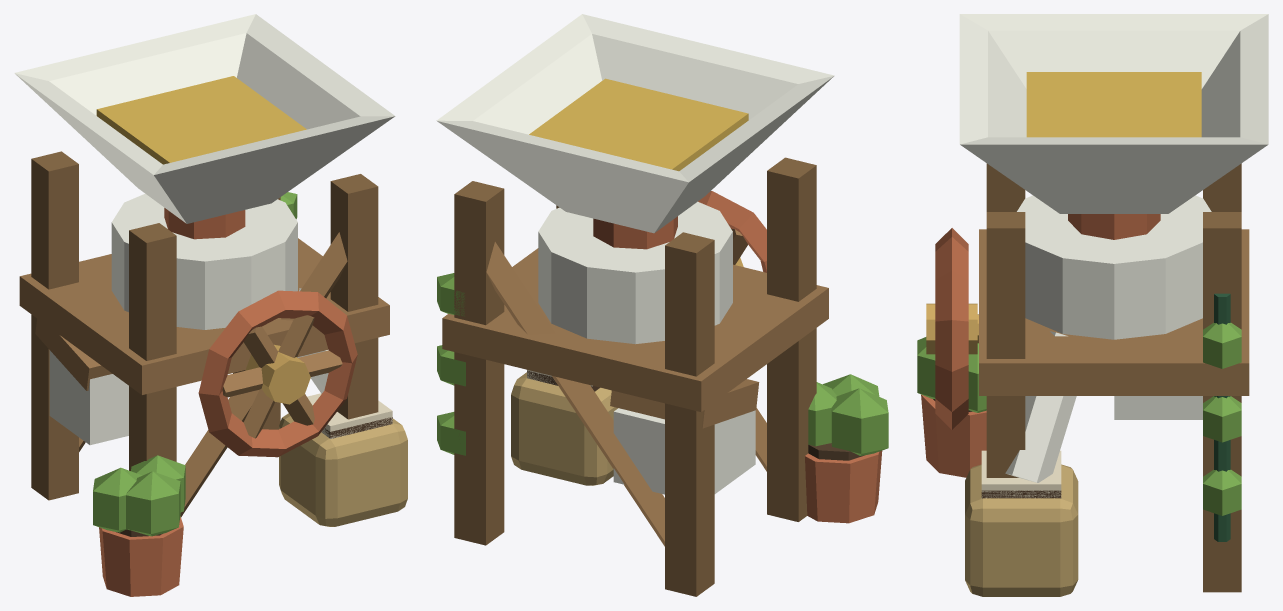
Rendered from mill_electric.glb.
The picture shows the model from 3 angles, left to right: view 1: azimuth 30°, elevation 25°; view 2: azimuth 150°, elevation 25°; view 3: azimuth 270°, elevation 25°; orthographic projection. The views are drawn at different scales.
Visible parts, largest first — view 1: Mill_open_hopper, move_spin_drive, Mill_machine_shelf, Mill_ceramic_grinder, Mill_timber_upright.001, Mill_flour_bin, Mill_visible_grain, Mill_timber_upright, Mill_timber_upright.002, Mill_motor, decor_Terracotta_planter, Mill_tower_brace (+7 smaller); view 2: Mill_open_hopper, Mill_machine_shelf, Mill_ceramic_grinder, Mill_timber_upright.001, Mill_timber_upright.003, Mill_timber_upright, Mill_visible_grain, Mill_flour_bin, Mill_tower_brace.001, Mill_motor, decor_Terracotta_planter, decor_Living_leaves (+10 smaller); view 3: Mill_open_hopper, Mill_ceramic_grinder, Mill_machine_shelf, Mill_flour_bin, Mill_visible_grain, Mill_timber_upright.002, Mill_timber_upright.003, move_spin_drive, Mill_flour_chute, decor_Terracotta_planter, Mill_motor, Mill_copper_neck (+10 smaller).
Boxes of the visible parts, x1,y1,x2,y2 form: Mill_open_hopper: [14, 14, 395, 223]; move_spin_drive: [198, 290, 357, 457]; Mill_machine_shelf: [19, 238, 389, 394]; Mill_ceramic_grinder: [111, 193, 297, 329]; Mill_timber_upright.001: [31, 151, 78, 500]; Mill_flour_bin: [279, 413, 407, 526]; Mill_visible_grain: [96, 76, 306, 164]; Mill_timber_upright: [129, 223, 176, 470]; Mill_timber_upright.002: [330, 174, 378, 419]; Mill_motor: [49, 350, 128, 445]; decor_Terracotta_planter: [99, 516, 183, 596]; Mill_tower_brace: [180, 232, 347, 517]; Mill_open_hopper: [436, 14, 834, 233]; Mill_machine_shelf: [442, 248, 828, 411]; Mill_ceramic_grinder: [538, 201, 732, 344]; Mill_timber_upright.001: [665, 232, 714, 596]; Mill_timber_upright.003: [454, 181, 504, 545]; Mill_timber_upright: [767, 157, 816, 521]; Mill_visible_grain: [529, 78, 748, 171]; Mill_flour_bin: [511, 372, 617, 485]; Mill_tower_brace.001: [486, 242, 664, 546]; Mill_motor: [613, 408, 755, 494]; decor_Terracotta_planter: [805, 450, 882, 523]; decor_Living_leaves: [831, 388, 888, 455]; Mill_open_hopper: [959, 14, 1268, 213]; Mill_ceramic_grinder: [1017, 195, 1211, 339]; Mill_machine_shelf: [979, 229, 1249, 395]; Mill_flour_bin: [965, 464, 1078, 596]; Mill_visible_grain: [1026, 72, 1201, 137]; Mill_timber_upright.002: [986, 212, 1025, 477]; Mill_timber_upright.003: [1203, 212, 1241, 592]; move_spin_drive: [926, 228, 977, 429]; Mill_flour_chute: [1005, 331, 1076, 482]; decor_Terracotta_planter: [921, 394, 986, 477]; Mill_motor: [1114, 396, 1202, 419]; Mill_copper_neck: [1068, 214, 1160, 239].
Bounding box in the file's own units: 1.58 × 1.93 × 1.37.
